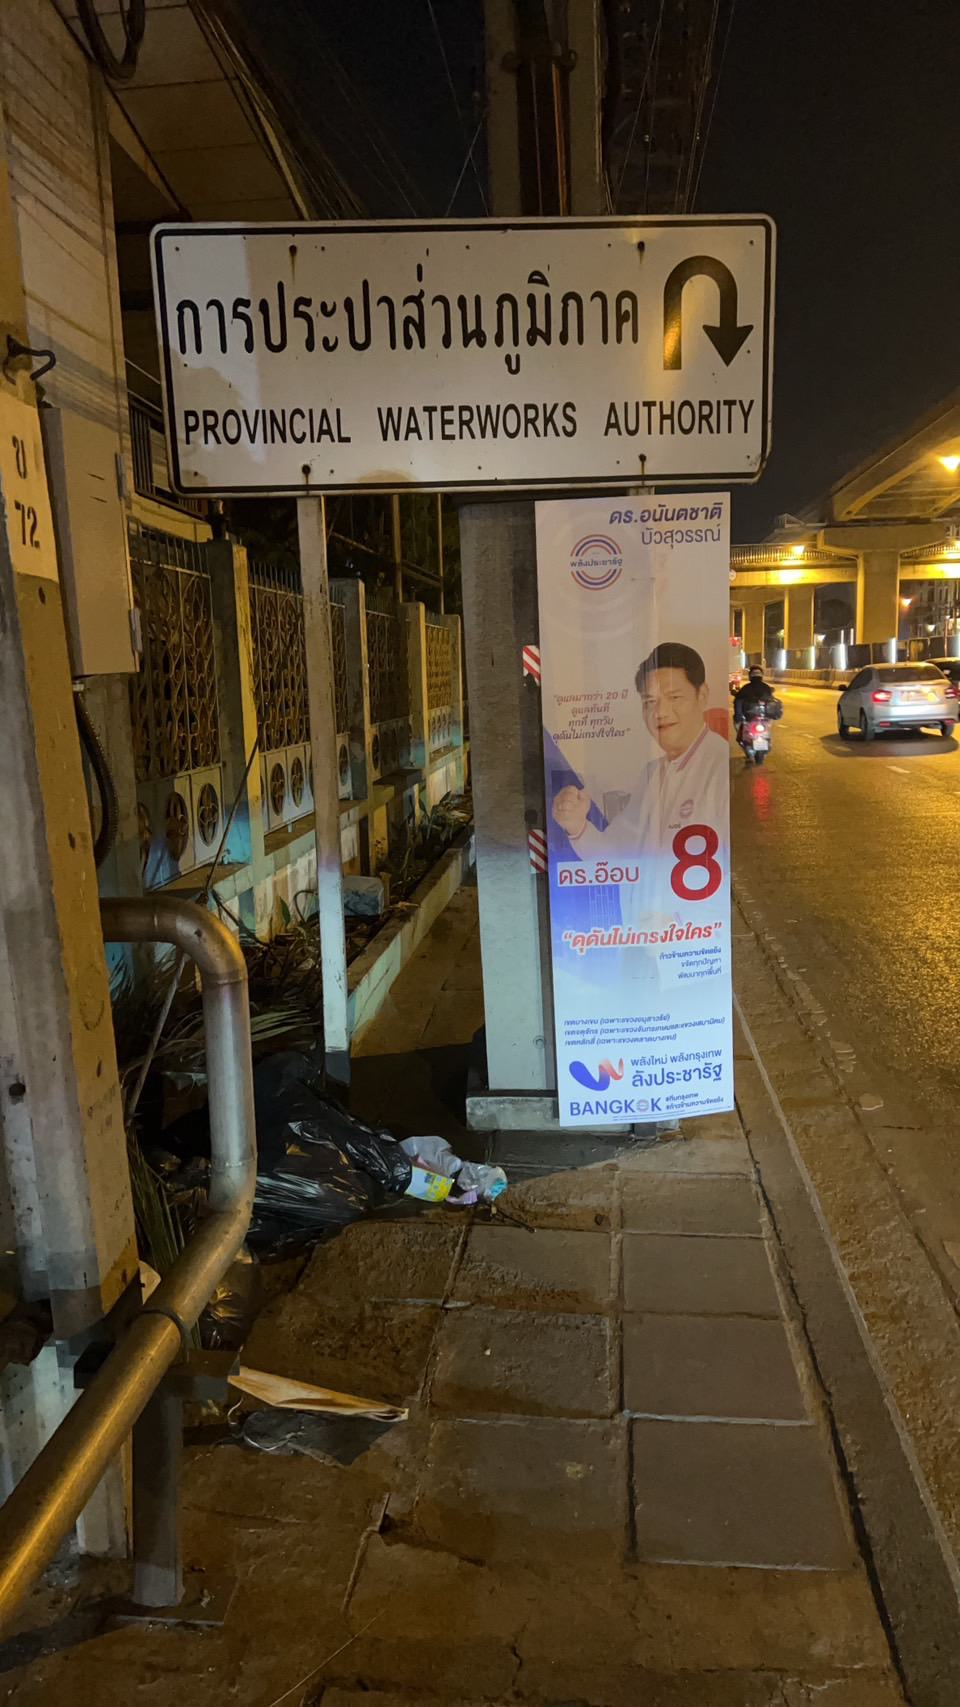Banner: (536, 487, 744, 1141)
